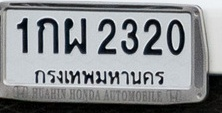num1: (16, 17, 30, 54)
txt01: (35, 17, 60, 55)
txt23: (63, 17, 88, 56)
